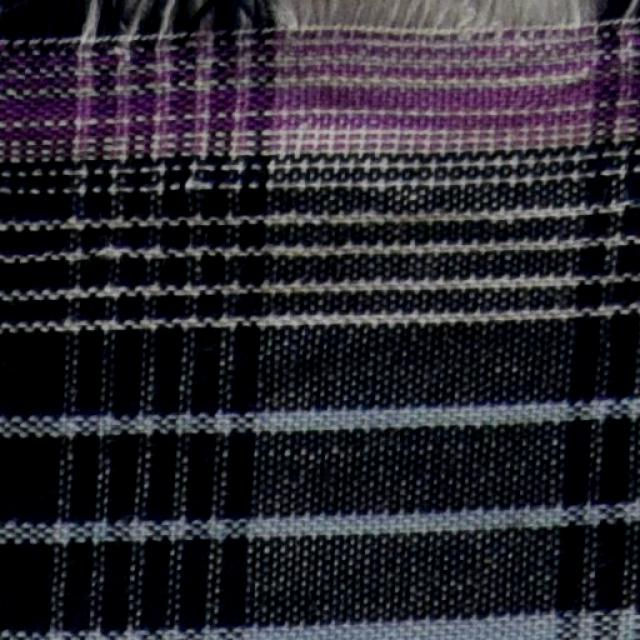Snag: (3, 1, 639, 73)
Stain: (0, 22, 639, 163)
